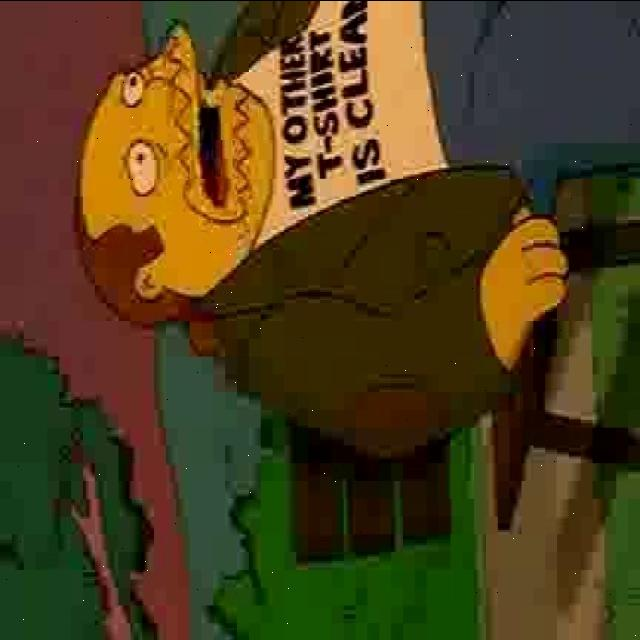Comic Book Guy: (73, 16, 280, 356)
